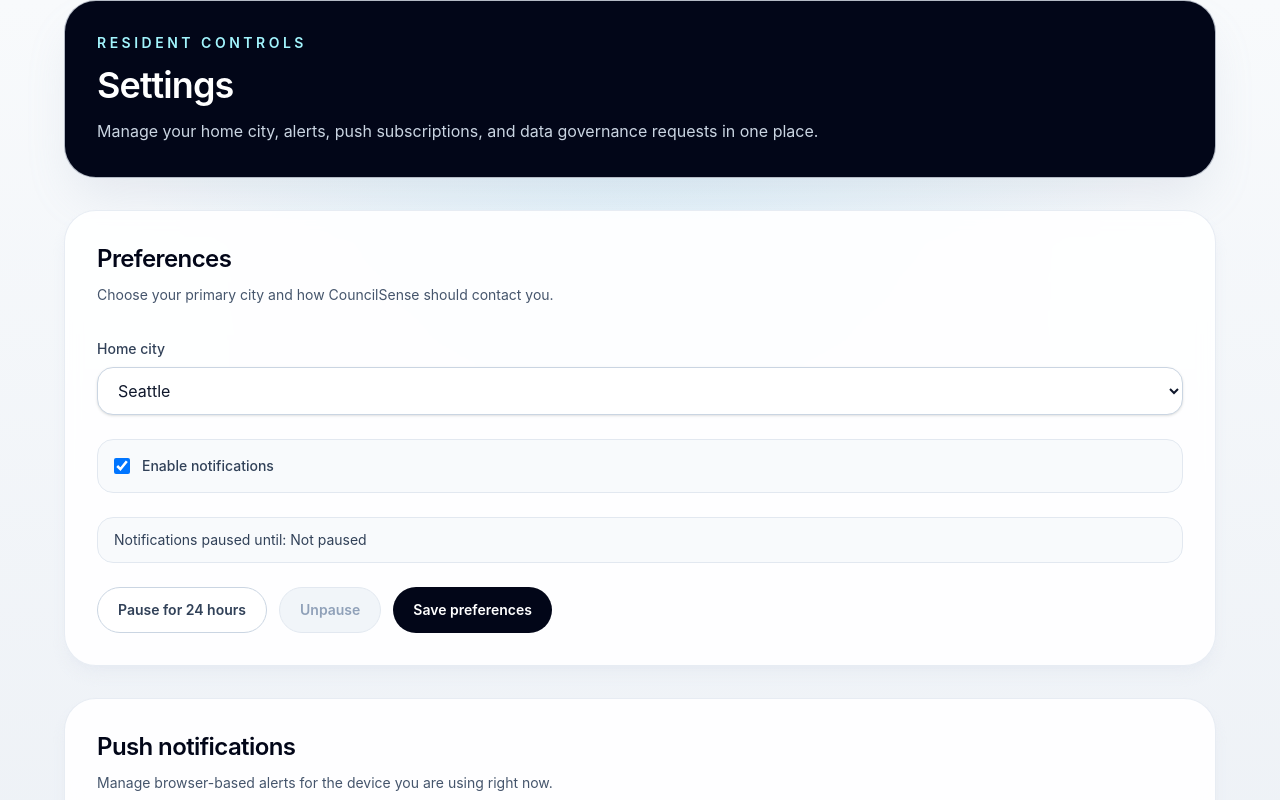
Scenario: SettingsPreferencesForm › submits city and notification updates
Select "Portland" in the dropdown labelled "Home city" at point(640, 391), box [97,367,1183,415]
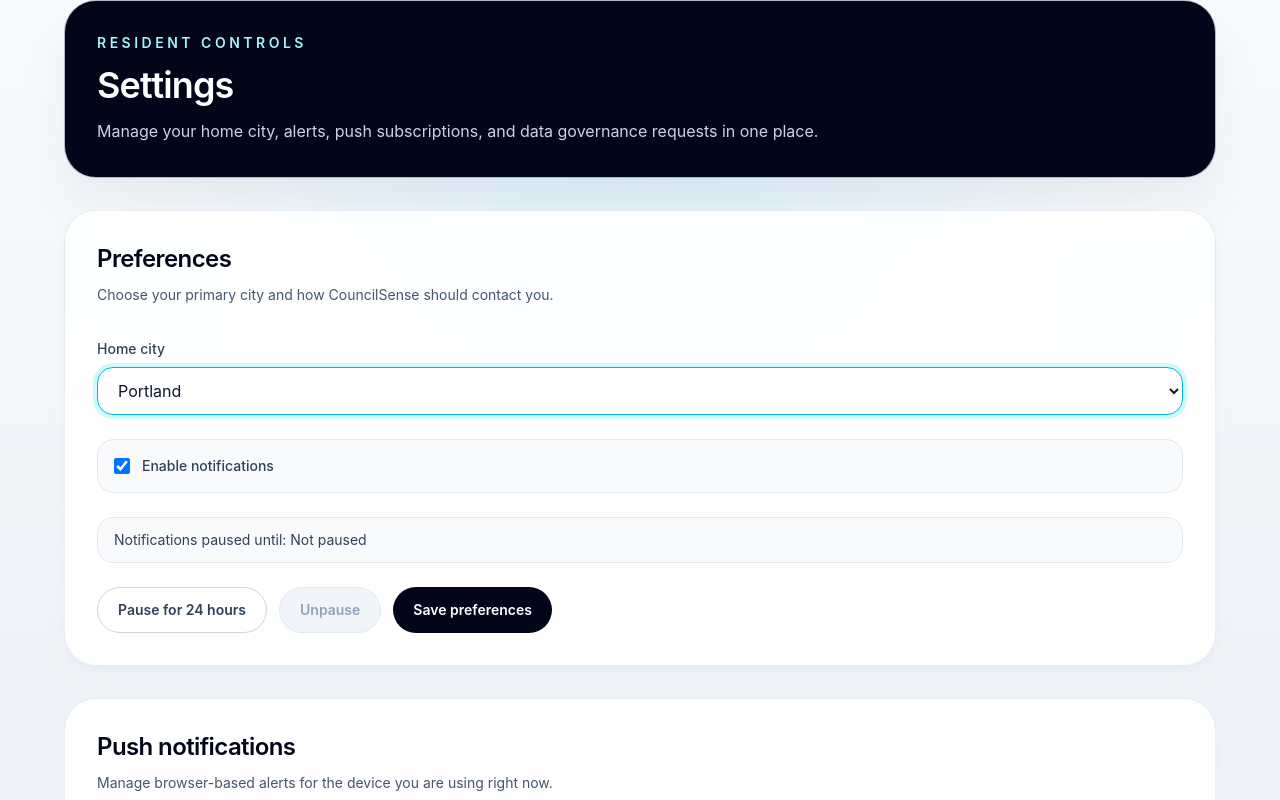
Click the checkbox labelled "Enable notifications" at point(122, 466), box [114,458,130,474]
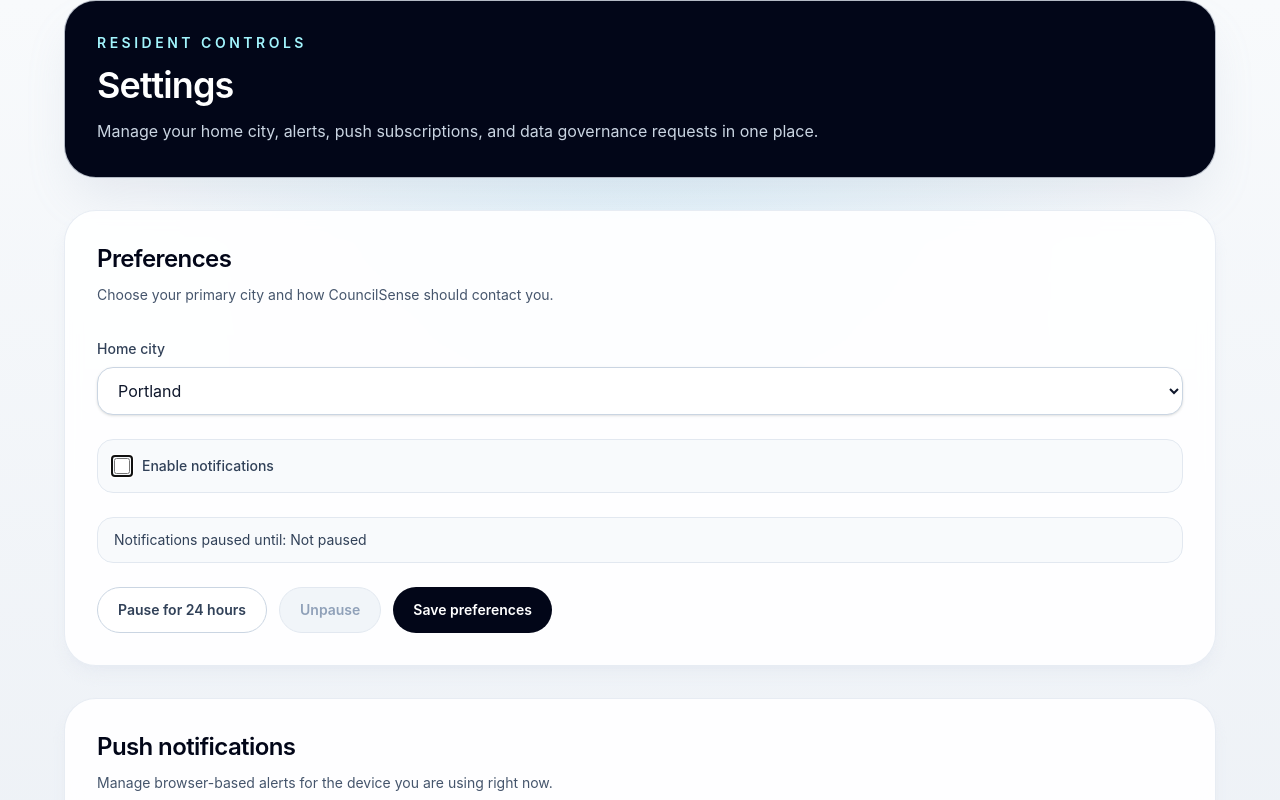
Click the button "Save preferences" at point(473, 610), box [393,587,552,633]
(page scrolled)
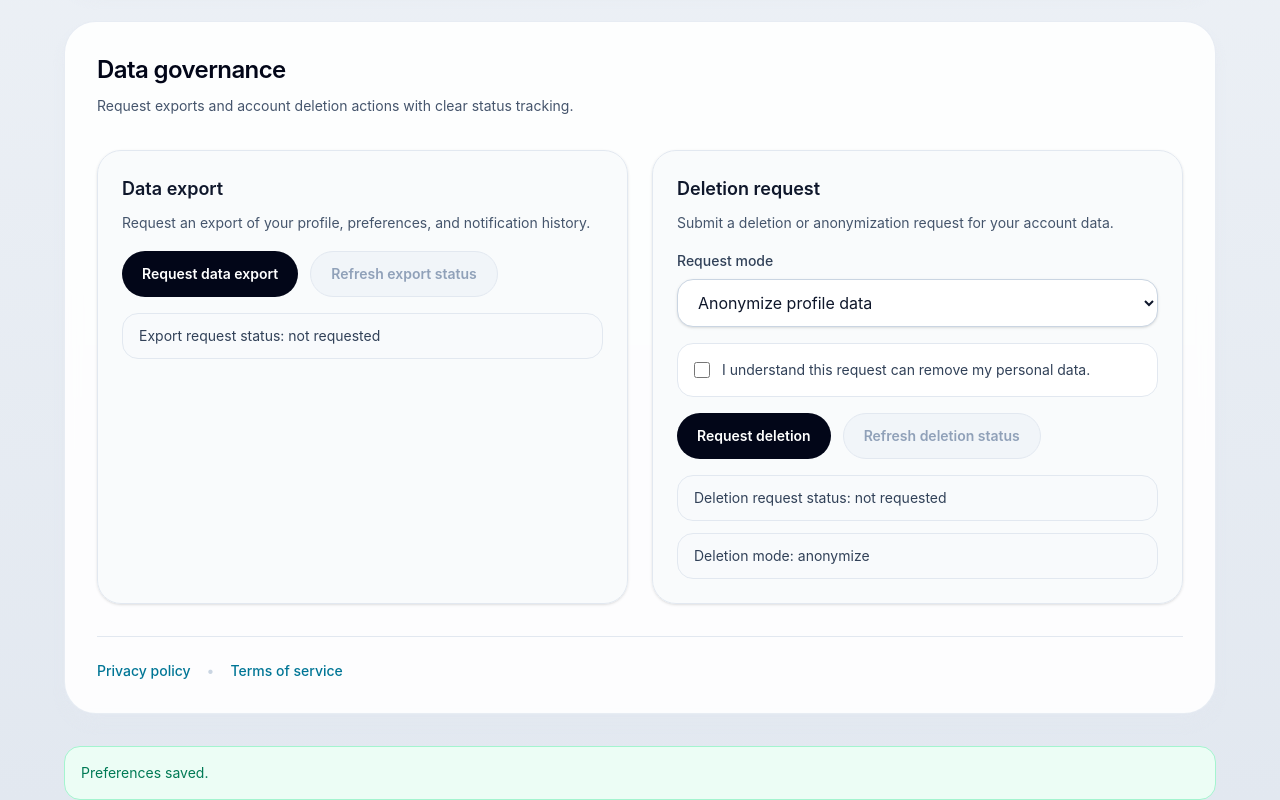
Check: the message reads "Preferences saved.", box [81,764,208,781]
